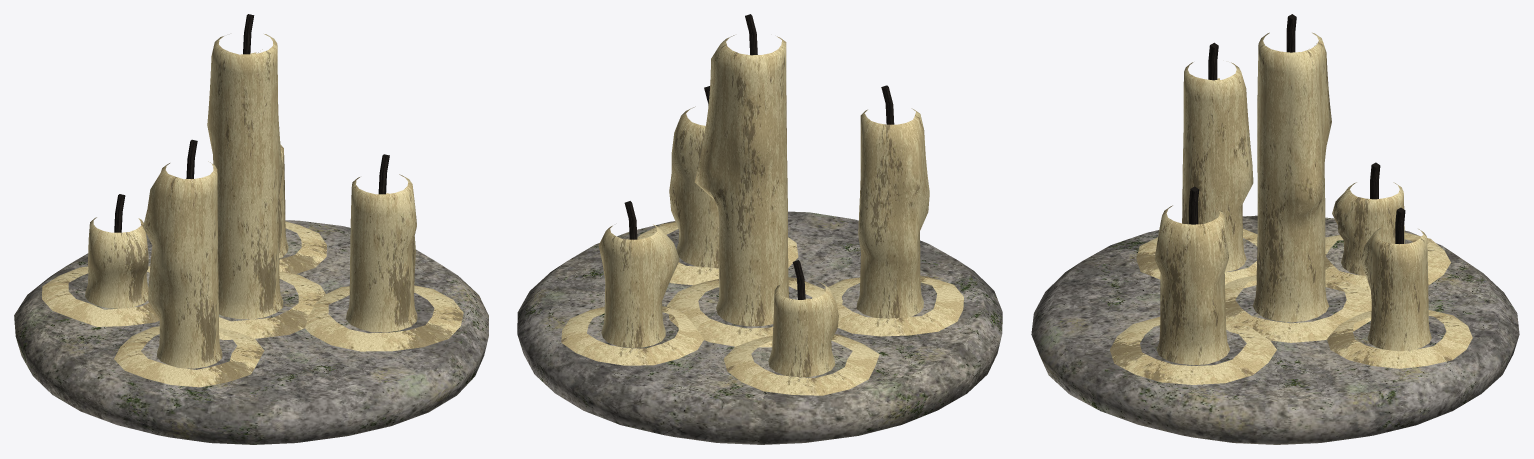
The model's file is candles.glb.
3 views of the same model, side by side, from view 1: azimuth 30°, elevation 25°; view 2: azimuth 150°, elevation 25°; view 3: azimuth 270°, elevation 25° (orthographic). The views are drawn at different scales.
Visible parts, largest first — view 1: candles; view 2: candles; view 3: candles.
Part boxes in pixels (bbox=[...]): candles: bbox=[14, 14, 488, 444]; candles: bbox=[517, 14, 1002, 444]; candles: bbox=[1031, 14, 1519, 444].
Bounding box in the file's own units: 0.3461 × 0.2717 × 0.3503.
3 materials, 3 textured.
